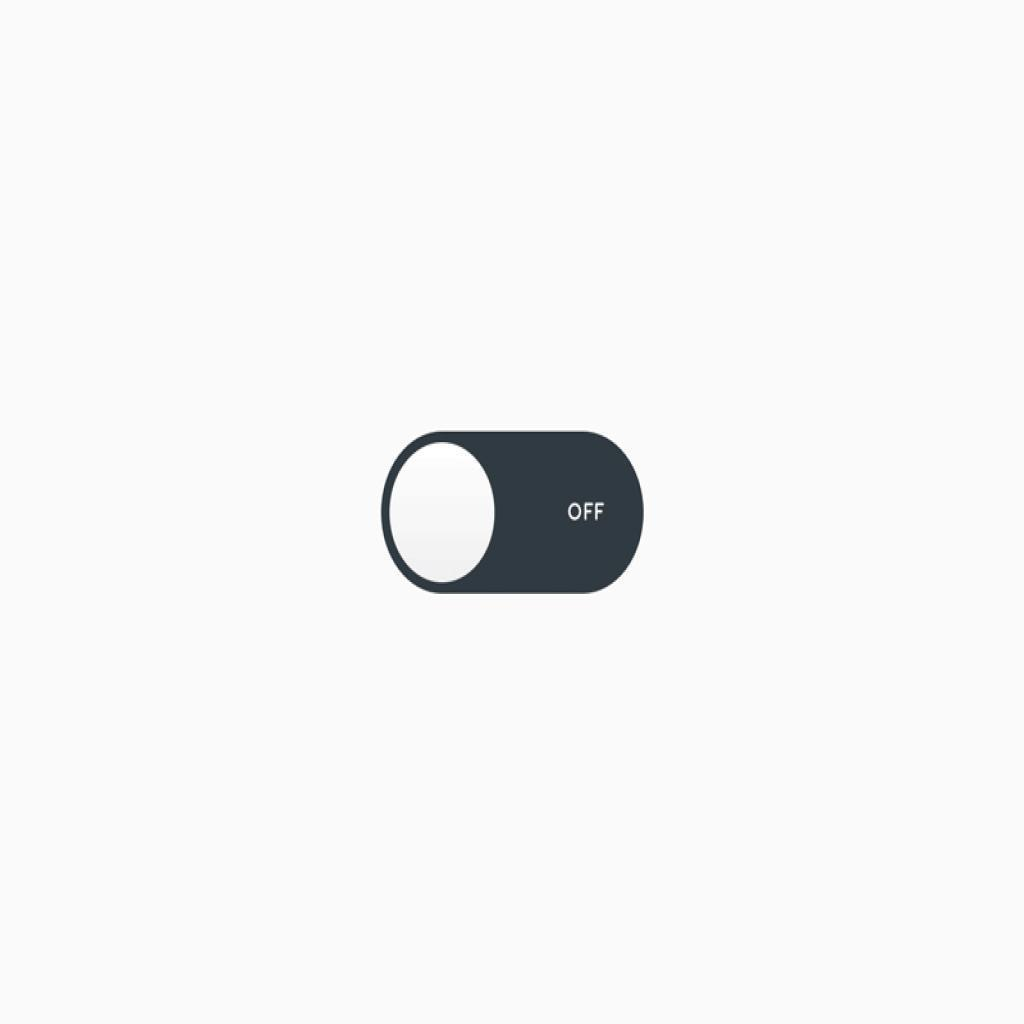switch: (376, 430, 649, 601)
